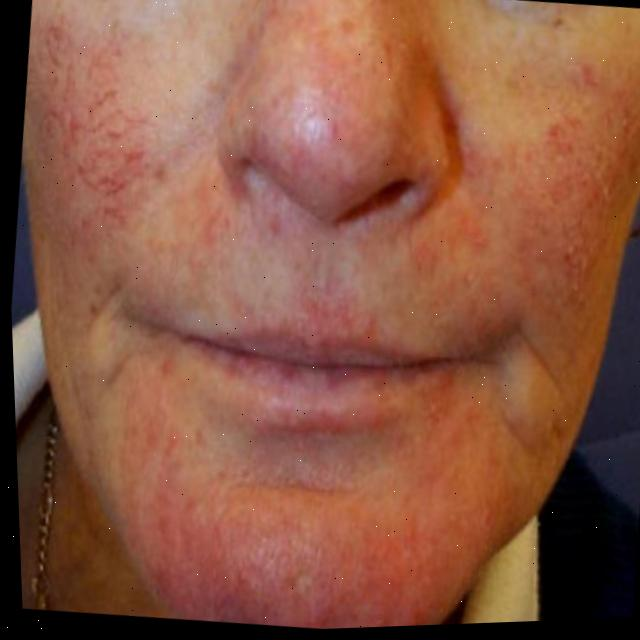Rosacea: (404, 44, 640, 346), (106, 442, 446, 637), (5, 1, 186, 275), (243, 12, 396, 193)
